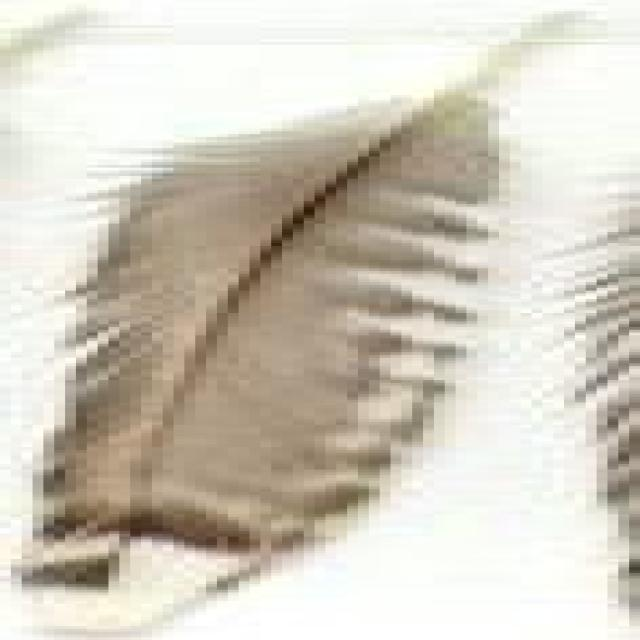feather: (0, 5, 607, 638)
